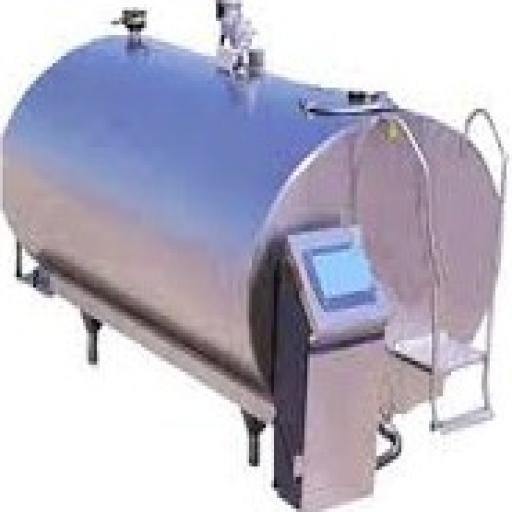silo: (0, 0, 504, 508)
